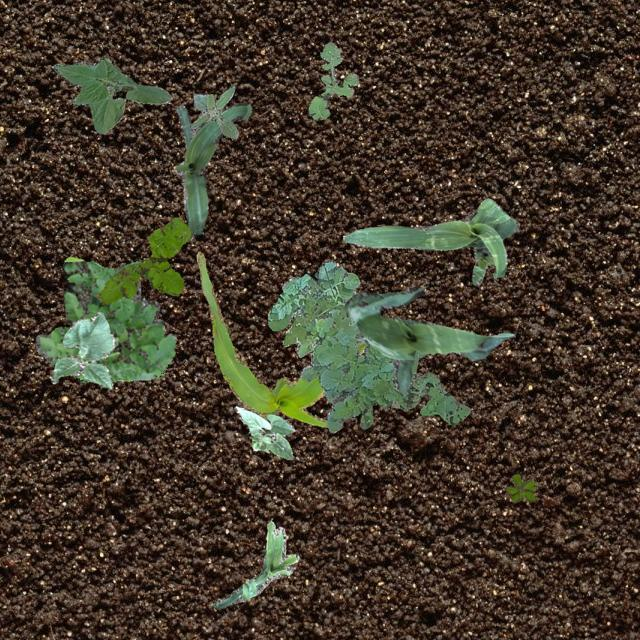crop: (196, 250, 364, 427), (343, 284, 512, 396), (342, 198, 518, 284), (172, 102, 250, 235), (51, 58, 170, 132), (212, 520, 298, 608), (280, 276, 364, 344), (49, 310, 114, 388), (234, 404, 294, 458)
weed: (266, 259, 469, 432), (34, 256, 174, 382), (96, 216, 190, 302), (306, 40, 358, 120), (190, 84, 238, 138), (506, 472, 536, 502)
